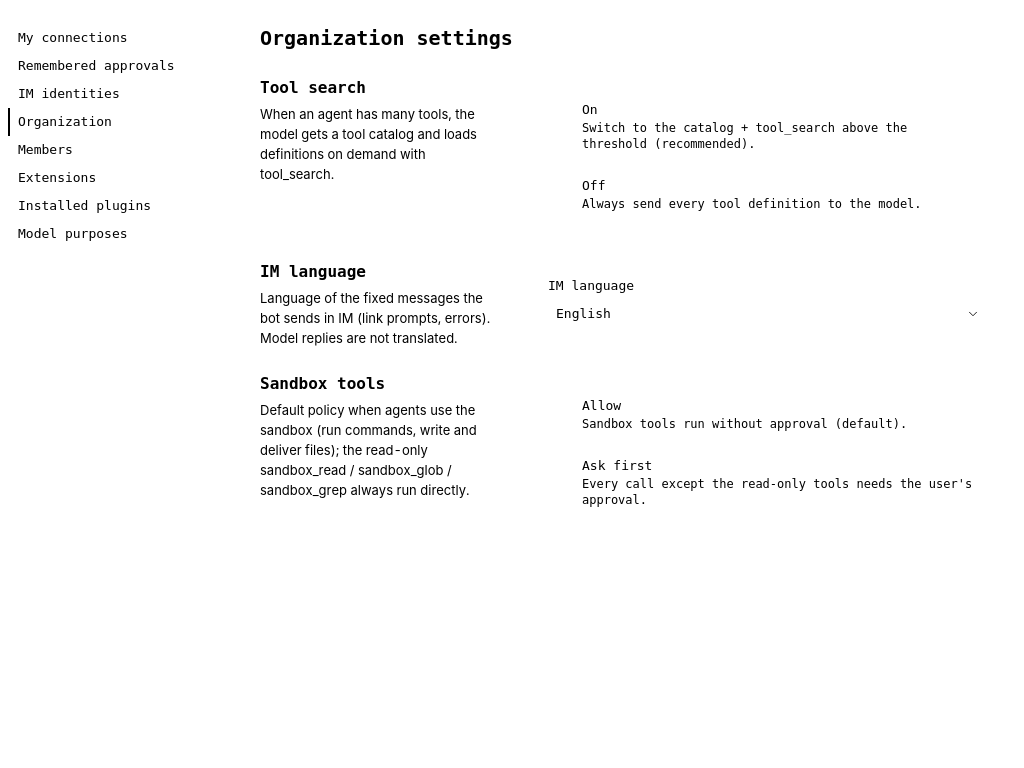
组织设置（SettingsPage） › 管理员：关闭工具搜索 → 出现 ActionRow → 保存 PATCH settings（en）
Expected: the link "Organization" is shown, [8, 108, 232, 136]
Click the radio button labelled "Off Always send every tool definition to the model." at (752, 194), box [582, 178, 922, 211]
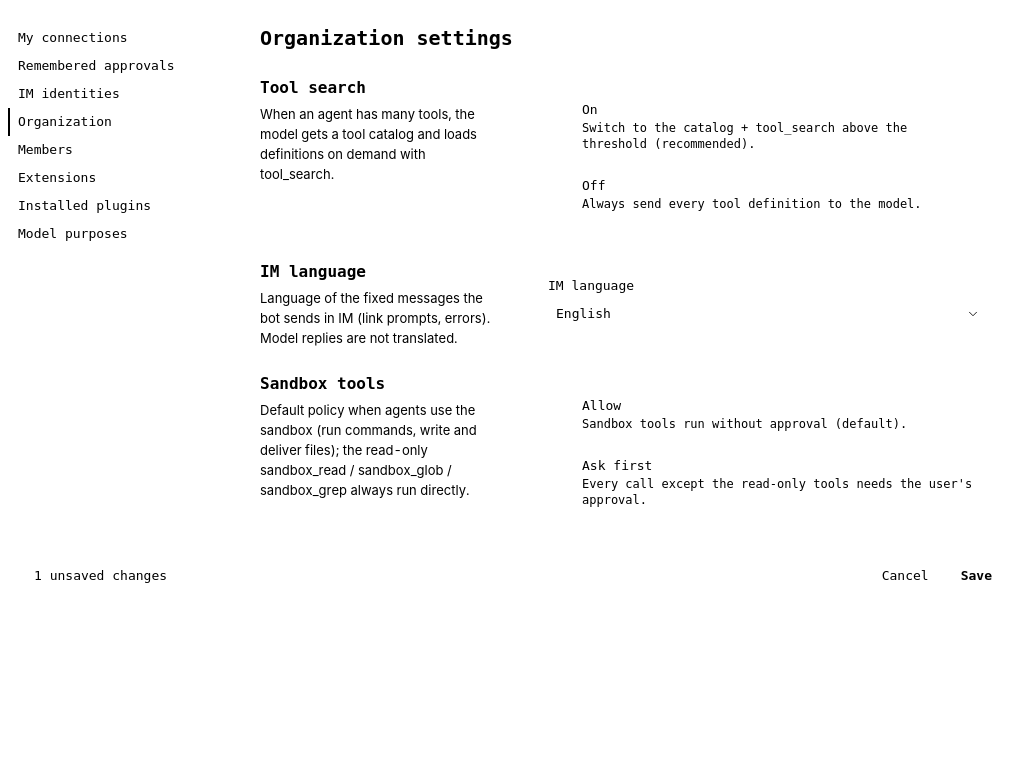
Now the element named "Pending changes" is shown, box [0, 556, 1023, 596]
Click the button "Save" at (976, 576), box [949, 562, 1004, 590]
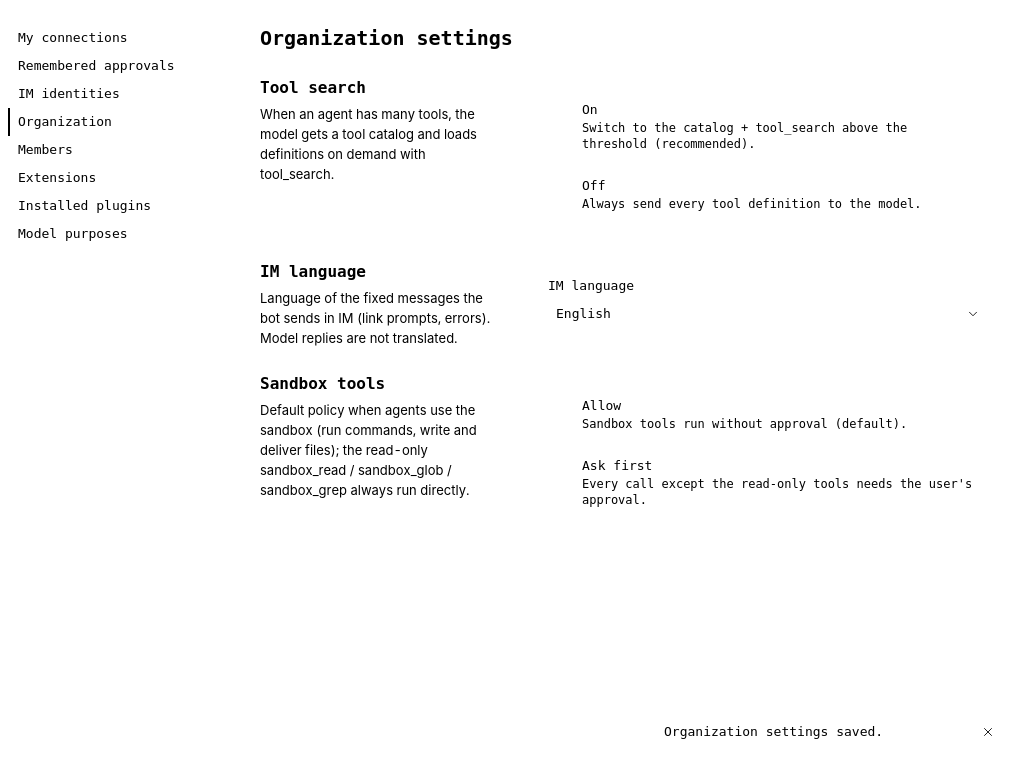
Now the text "Organization settings saved." is shown, box [664, 724, 883, 739]
